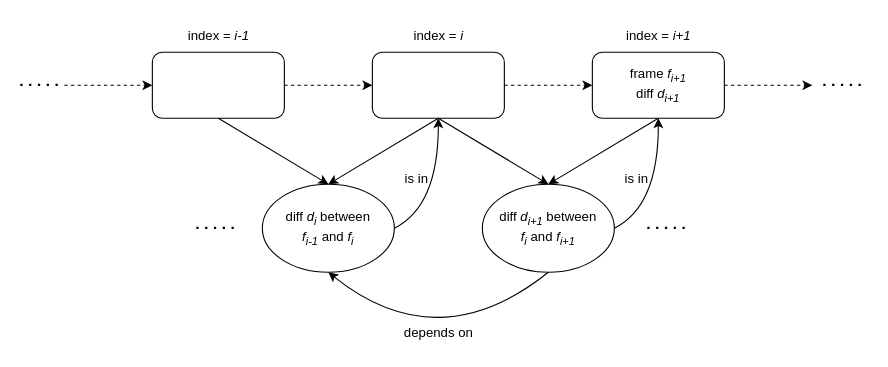
The diagram is 888 pixels wide and 367 high, and some of its shapes have lost their labels. The centre of each missing label's shape, as x and y in pixels:
"frame f i diff d i" goes at pixel 437 84.
"frame f i-1 diff d i-1" goes at pixel 217 84.
